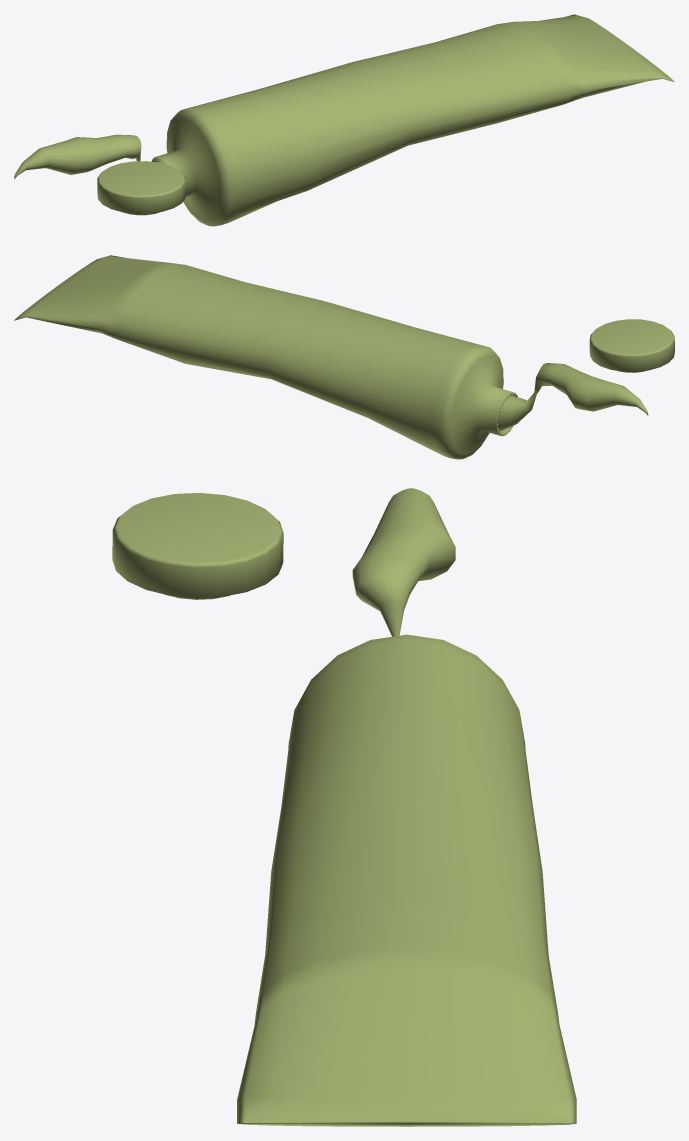
Rendered from Paint_tubes_open.fbx.
The picture shows the model from 3 angles, top to bottom: view 1: azimuth 30°, elevation 25°; view 2: azimuth 150°, elevation 25°; view 3: azimuth 270°, elevation 25°; orthographic projection. The views are drawn at different scales.
Visible parts, largest first — view 1: polySurface27; view 2: polySurface27; view 3: polySurface27.
Boxes of the visible parts, x1,y1,x2,y2 form: polySurface27: (14, 14, 674, 226); polySurface27: (14, 255, 674, 459); polySurface27: (112, 488, 576, 1126).
Size of the model in its own units: 0.2138 by 0.0374 by 0.0724.
